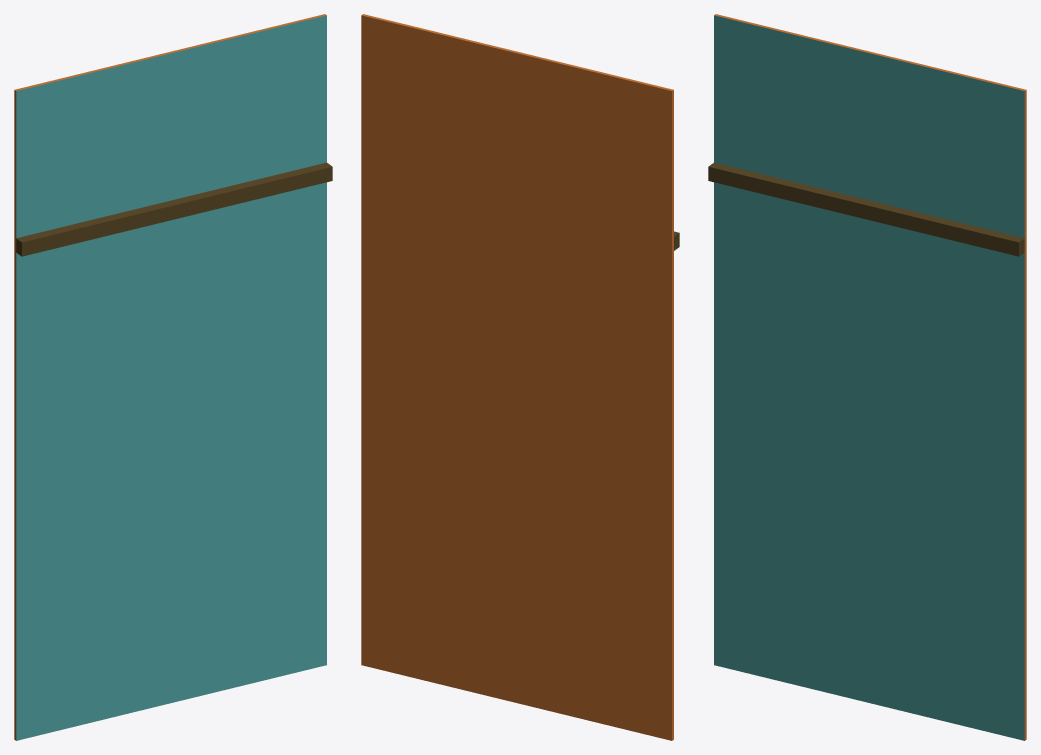
The model's file is simple wall 2m.fbx.
3 renders of one model, left to right at view 1: azimuth 30°, elevation 25°; view 2: azimuth 150°, elevation 25°; view 3: azimuth 330°, elevation 25°, orthographic.
Visible parts, largest first — view 1: Simple Wall Mesh; view 2: Simple Wall Mesh; view 3: Simple Wall Mesh.
Boxes of the visible parts, x1=… form: Simple Wall Mesh: x1=14, y1=14, x2=332, y2=740; Simple Wall Mesh: x1=361, y1=14, x2=679, y2=740; Simple Wall Mesh: x1=708, y1=14, x2=1026, y2=740.
Size of the model in its own units: 200 by 400 by 8.44.
